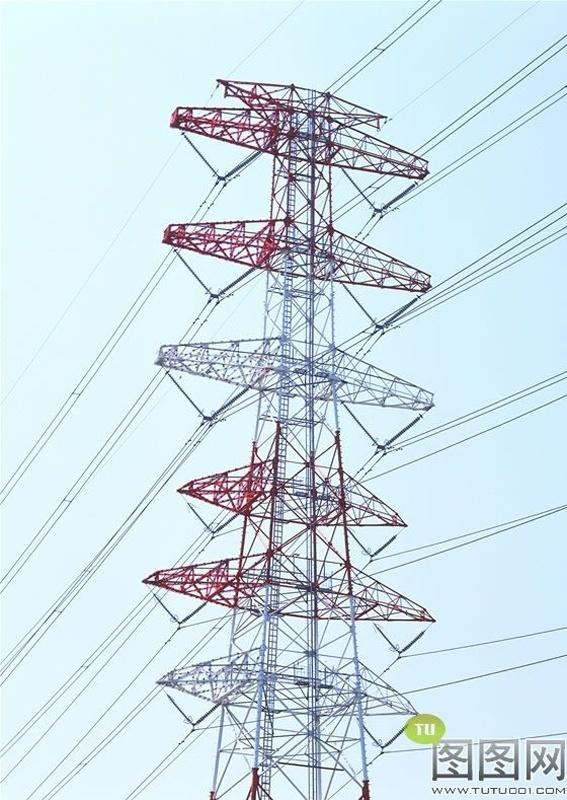power_tower: (152, 74, 434, 792)
